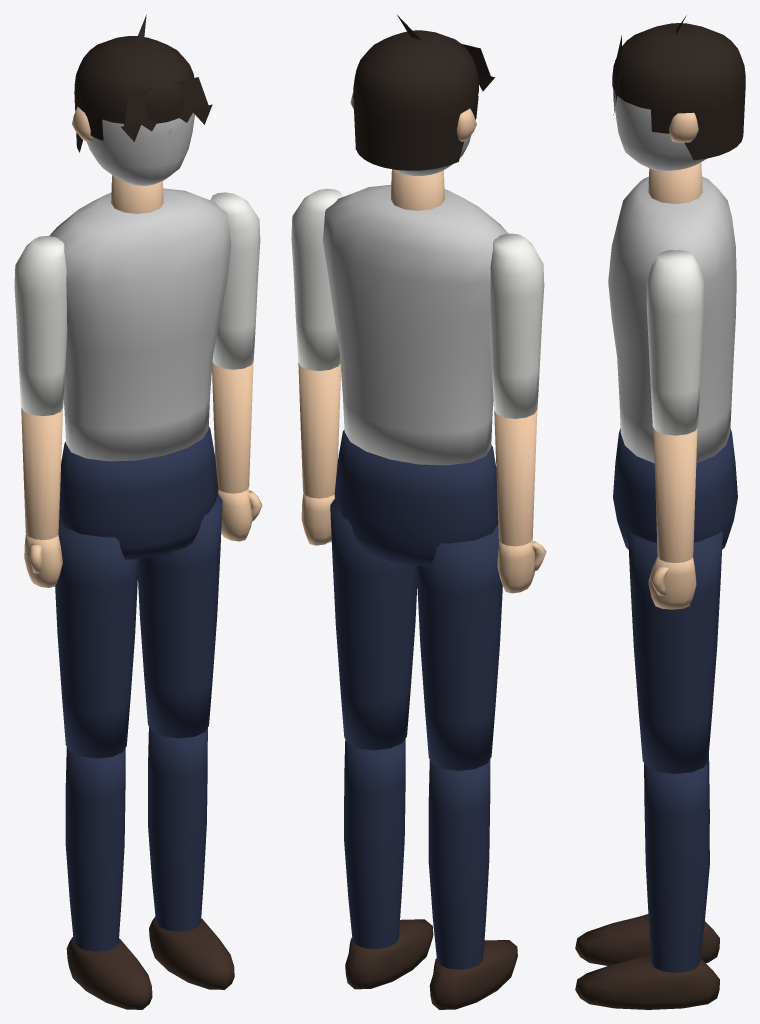
The model's file is boy.glb.
3 renders of one model, left to right at view 1: azimuth 30°, elevation 25°; view 2: azimuth 150°, elevation 25°; view 3: azimuth 270°, elevation 25°, orthographic. The views are drawn at different scales.
Parts seen in each view (by area): view 1: torso, legR, head, shinR, shinL, legL, hips, armR, foreR, foreL, armL; view 2: torso, legR, head, legL, shinR, shinL, hips, armR, foreR, armL, foreL; view 3: torso, shinL, head, legL, armL, foreL, hips, shinR.
Boxes of the visible parts, x1,y1,x2,y2 form: torso: (49,175,231,461); legR: (55,518,138,758); head: (72,14,212,185); shinR: (65,747,152,1009); shinL: (148,727,234,989); legL: (138,493,222,738); hips: (59,426,218,559); armR: (14,236,67,416); foreR: (21,408,62,587); foreL: (212,361,262,541); armL: (210,192,260,369); torso: (323,169,508,465); legR: (416,524,502,770); head: (350,15,494,175); legL: (330,498,417,750); shinR: (428,759,517,1009); shinL: (344,739,433,989); hips: (334,429,498,566); armR: (489,233,544,418); foreR: (494,410,546,593); armL: (291,188,342,370); foreL: (298,362,340,545); torso: (608,162,736,463); shinL: (575,763,719,1009); head: (612,15,745,170); legL: (628,531,722,773); armL: (646,250,704,435); foreL: (648,428,697,609); hips: (613,428,737,549); shinR: (575,754,719,965).
Size of the model in its own units: 0.475 by 1.8 by 0.2866.
